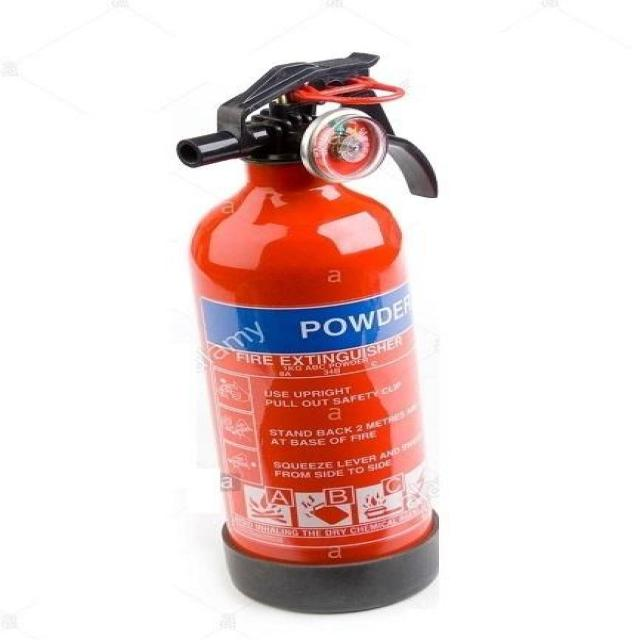fire_extinguisher: (165, 47, 445, 620)
